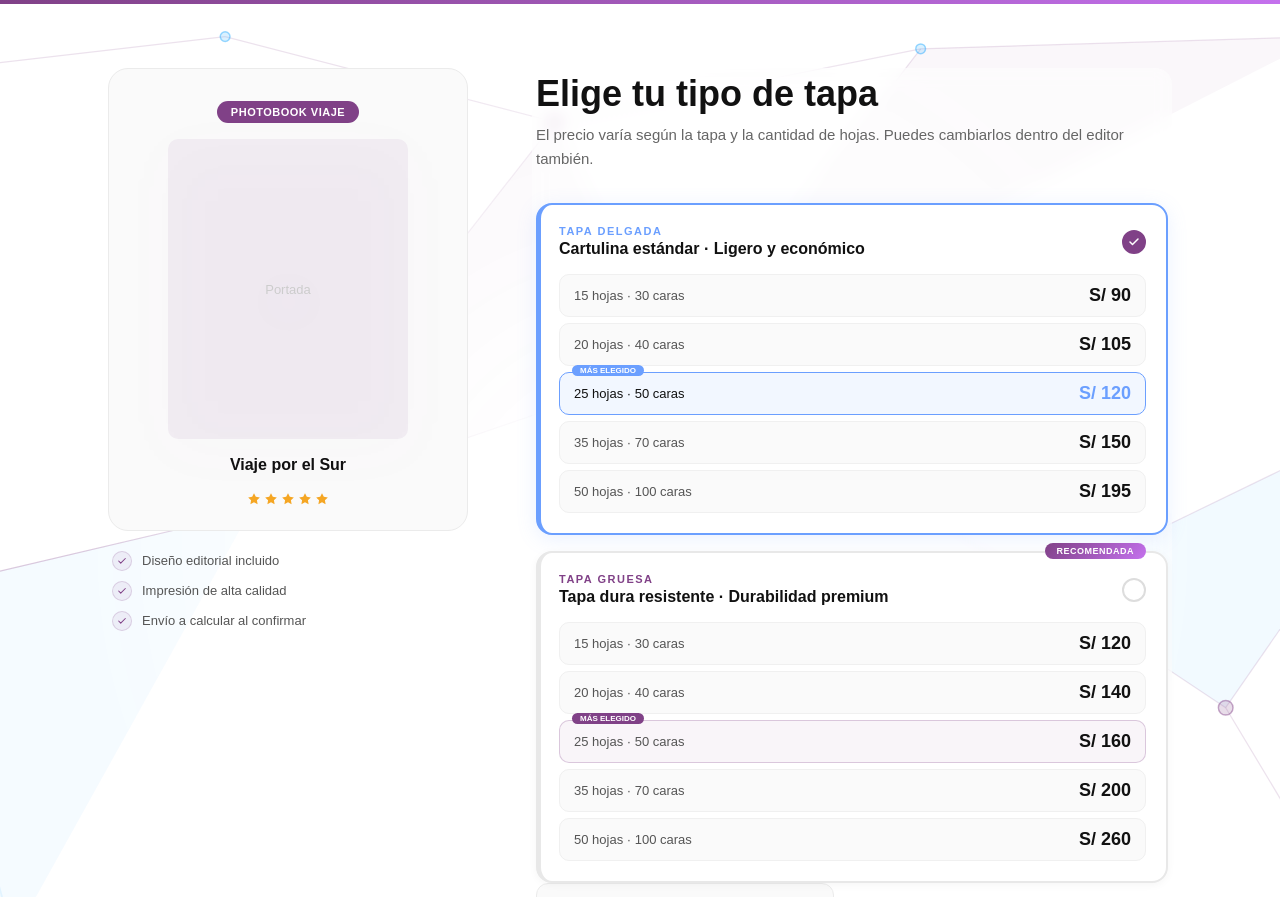
Test: PhotobookConfigurarClient (calcPrice via rendered summary) › selecting the 35-hoja Gruesa row switches cover and reprices to S/ 200
// The second matching row is in the Gruesa card.
Click the text "35 hojas · 70 caras" below "TAPA GRUESA": point(629, 791) [574,783,685,798]
(page scrolled)
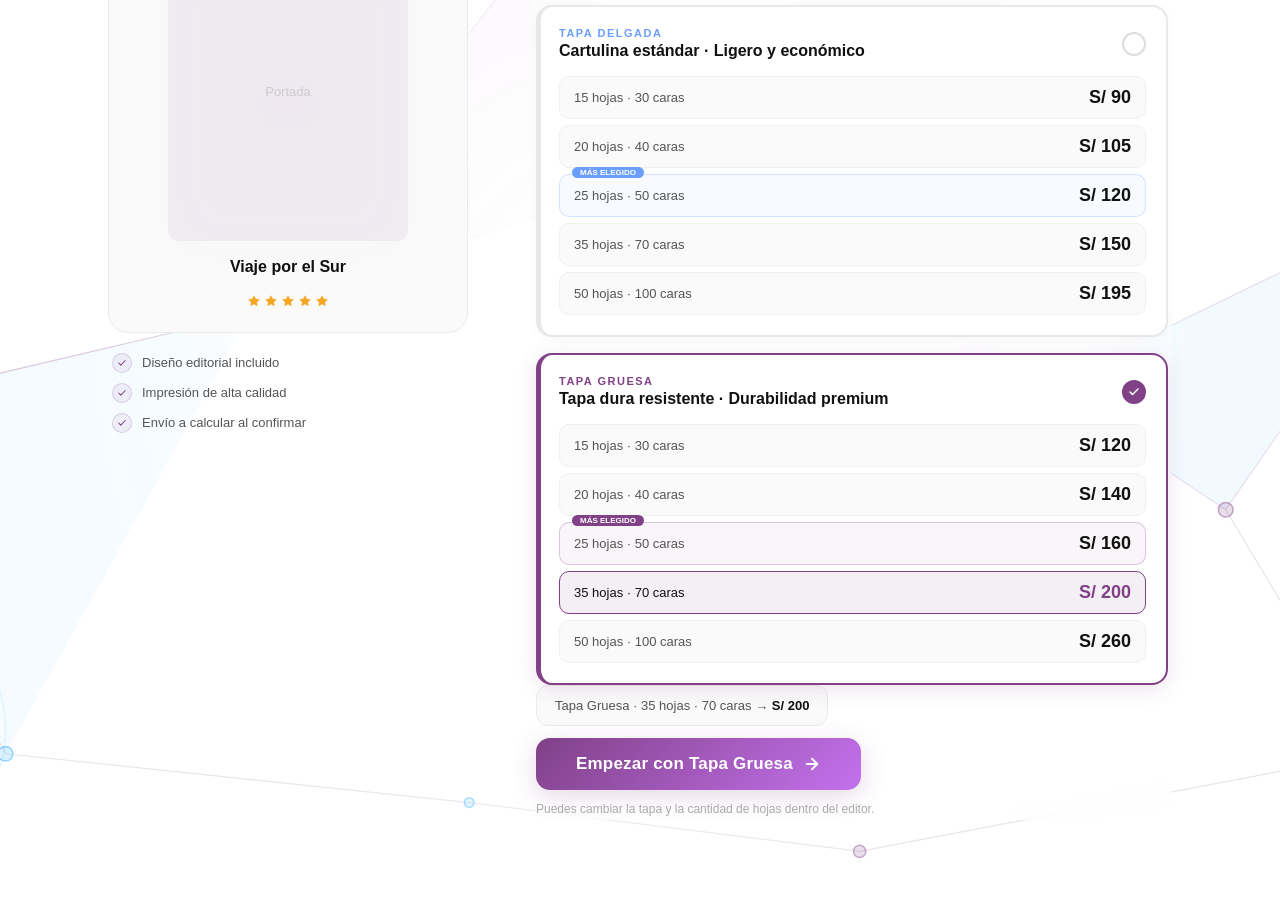
Now the text "S/ 200" next to "caras →" is shown, box [772,698,809,713]
Now the button "Empezar con Tapa Gruesa" is shown, box [536,738,861,790]
